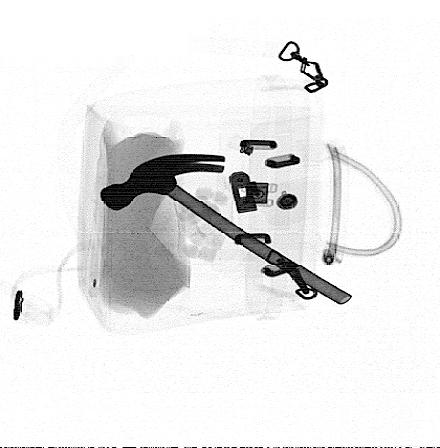Hammer: (99, 153, 352, 305)
